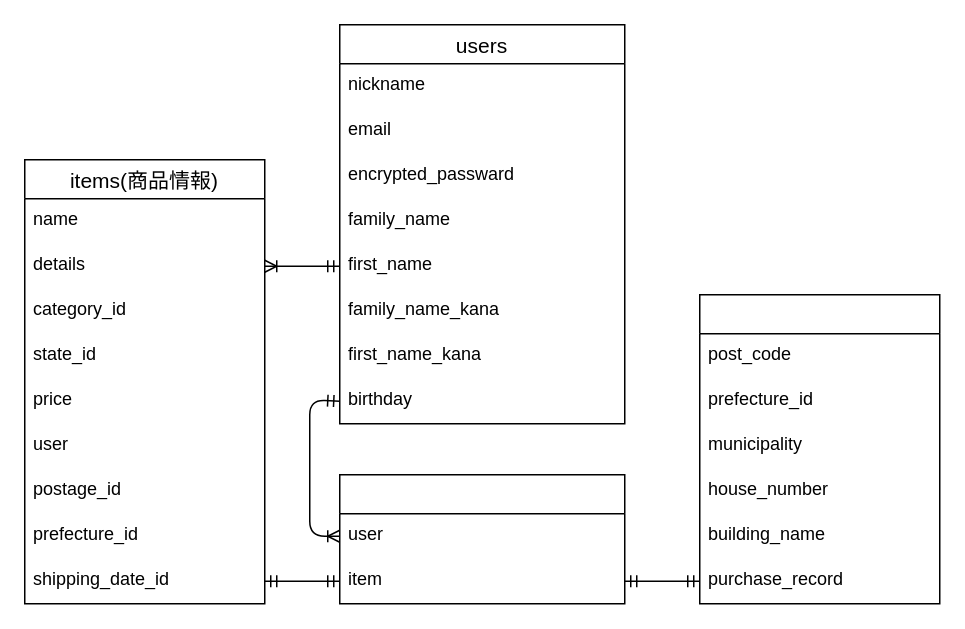
Image size: 965x629. Some labels were removed from this diagram. The box of each missing label's shape, as (x1, y1, x2, y2) in pixels:
addresses(配送先の情報): (698, 293, 940, 604)
purchase_records(購入情報): (338, 473, 625, 604)
